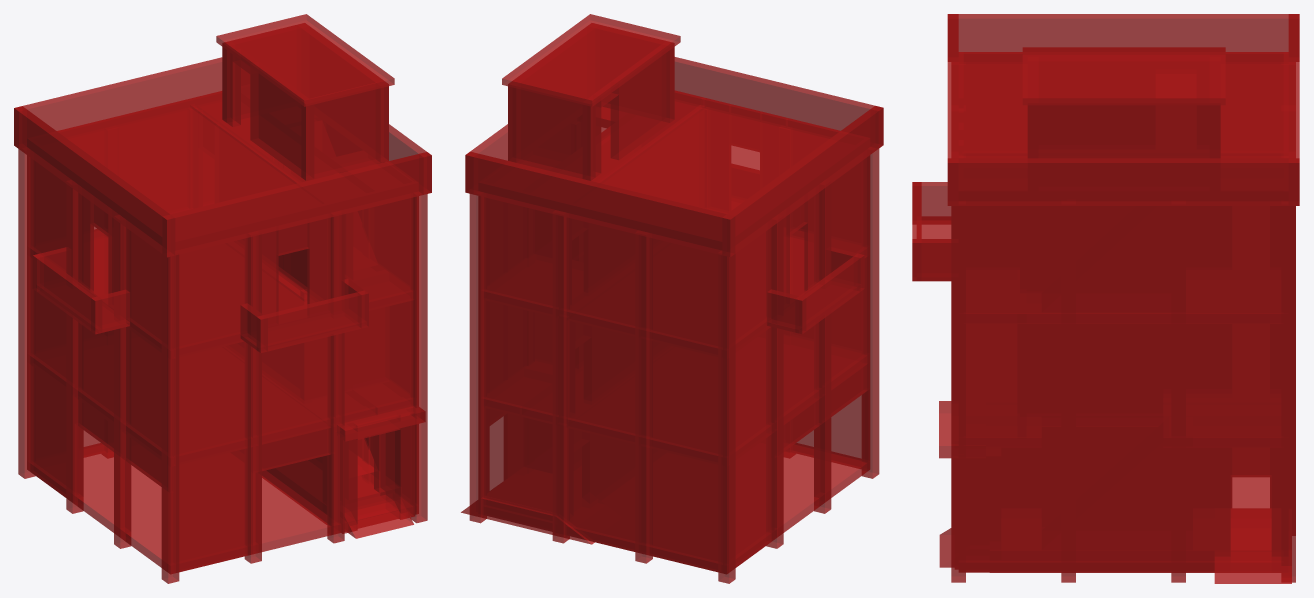
Rendered from SM_Bld_Shop_05_Collision.fbx.
3 renders of one model, left to right at view 1: azimuth 30°, elevation 25°; view 2: azimuth 150°, elevation 25°; view 3: azimuth 270°, elevation 25°, orthographic. The views are drawn at different scales.
Visible parts, largest first — view 1: SM_Bld_Shop_05_Collision; view 2: SM_Bld_Shop_05_Collision; view 3: SM_Bld_Shop_05_Collision.
Boxes of the visible parts, left/top/right/bottom form: SM_Bld_Shop_05_Collision: left=14, top=14, right=431, bottom=583; SM_Bld_Shop_05_Collision: left=461, top=14, right=883, bottom=583; SM_Bld_Shop_05_Collision: left=912, top=14, right=1299, bottom=583.
Bounding box in the file's own units: 1086 × 1454 × 1056.
